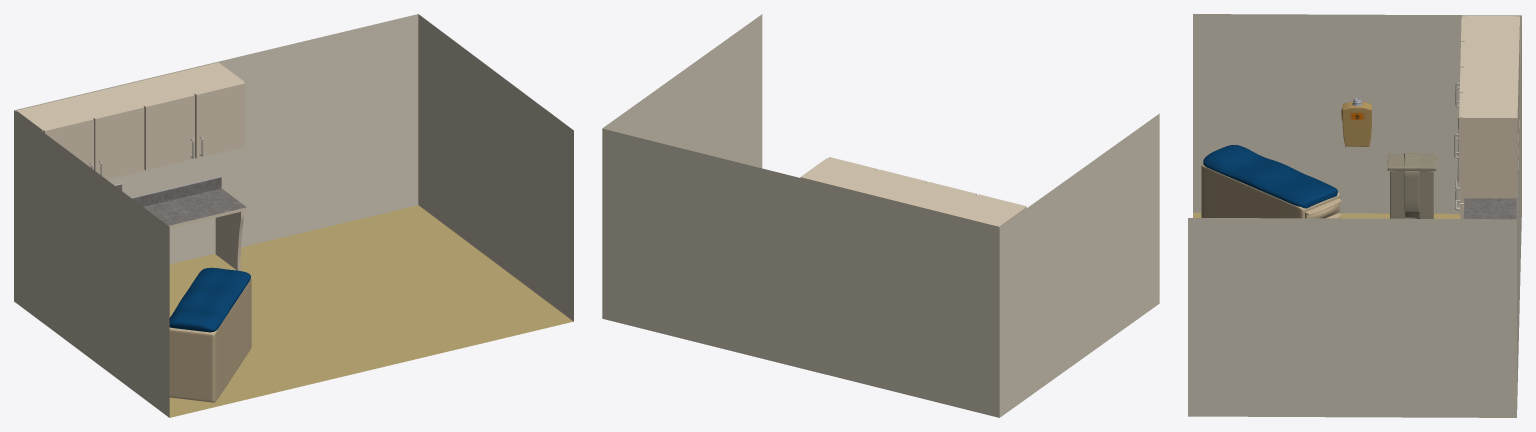
3 views of the same model, side by side, from view 1: azimuth 30°, elevation 25°; view 2: azimuth 150°, elevation 25°; view 3: azimuth 270°, elevation 25° (orthographic). The views are drawn at different scales.
Parts seen in each view (by area): view 1: ORU_Room_pstephens; view 2: ORU_Room_pstephens; view 3: ORU_Room_pstephens.
Boxes of the visible parts, x1,y1,x2,y2 form: ORU_Room_pstephens: (14, 14, 573, 417); ORU_Room_pstephens: (602, 14, 1159, 417); ORU_Room_pstephens: (1188, 14, 1521, 417).
Size of the model in its own units: 133 by 60 by 91.35.
14 materials, 14 textured.
